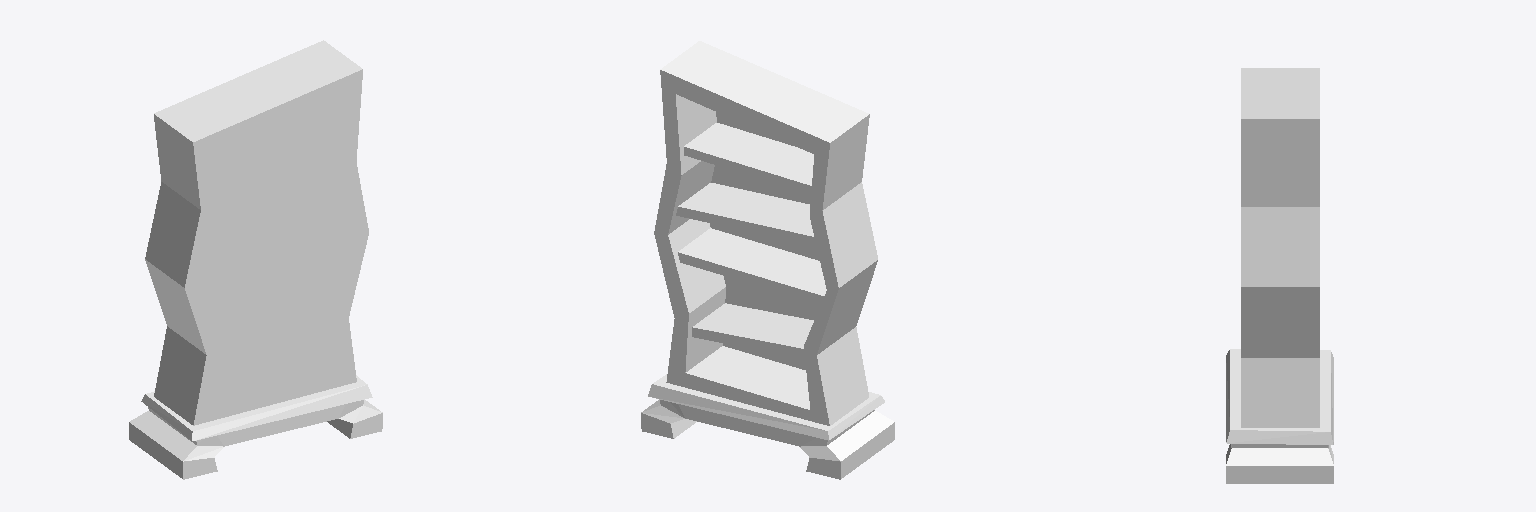
The model's file is bookcase_def.obj.
3 renders of one model, left to right at view 1: azimuth 30°, elevation 25°; view 2: azimuth 150°, elevation 25°; view 3: azimuth 270°, elevation 25°, orthographic.
Parts seen in each view (by area): view 1: BookCase_Low9; view 2: BookCase_Low9; view 3: BookCase_Low9.
Part boxes in pixels (bbox=[...]): BookCase_Low9: bbox=[129, 40, 382, 479]; BookCase_Low9: bbox=[641, 41, 894, 479]; BookCase_Low9: bbox=[1226, 68, 1333, 483].
Bounding box in the file's own units: 4.28 × 7.34 × 2.